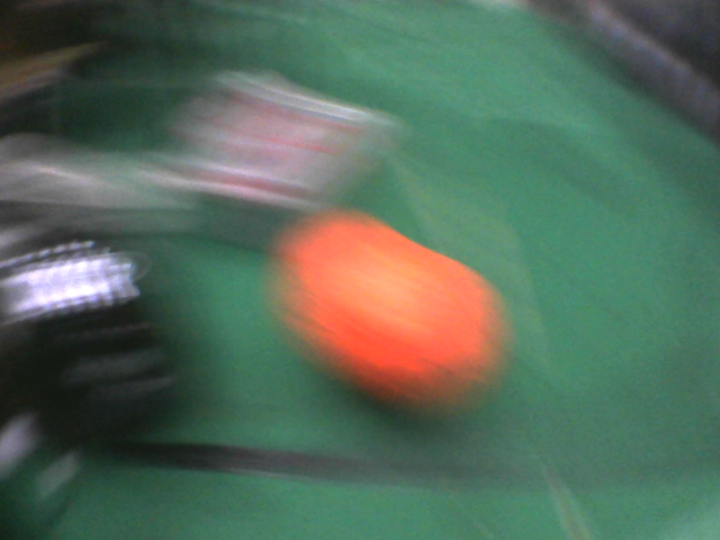bola: (265, 201, 513, 418)
